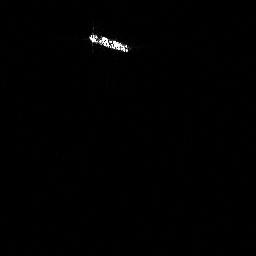ship: (85, 29, 133, 55)
